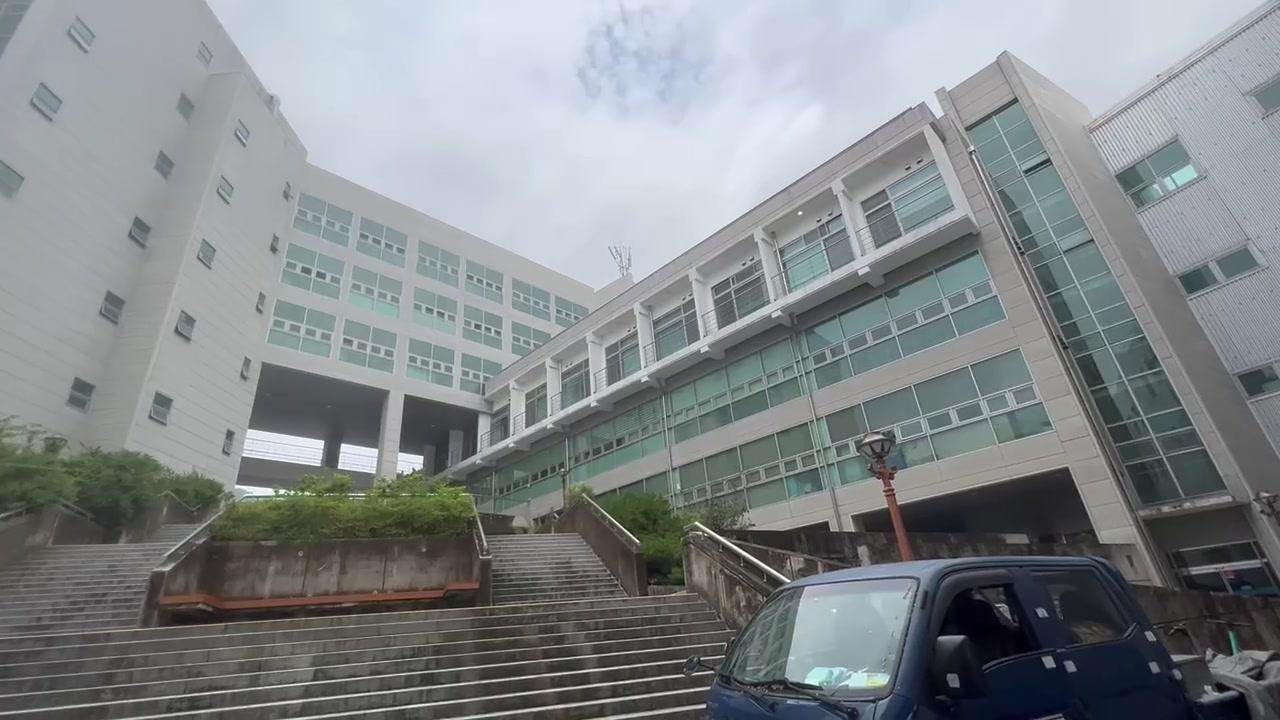building: (29, 50, 1227, 494)
